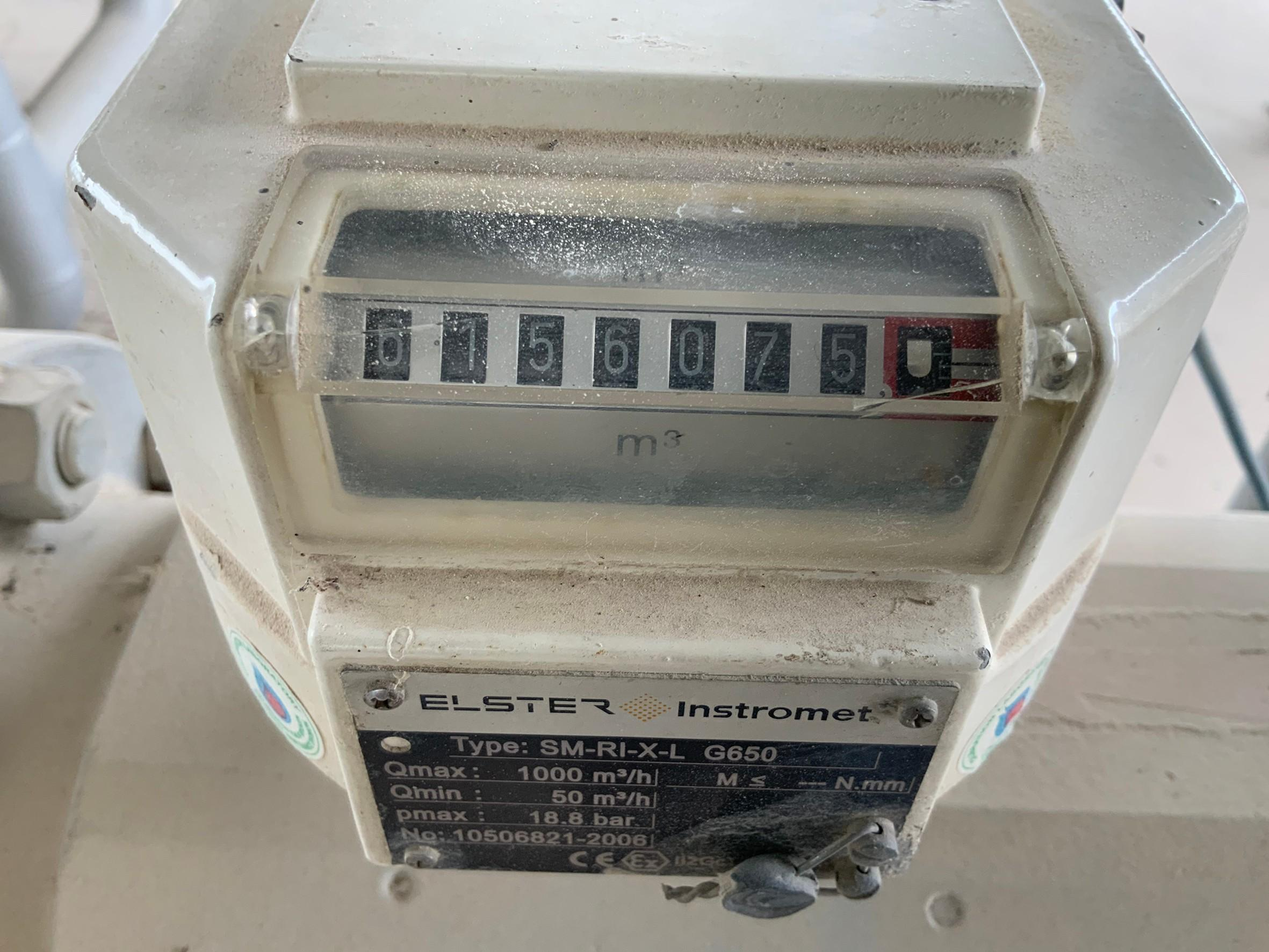analog_dial: (321, 298, 1004, 401)
